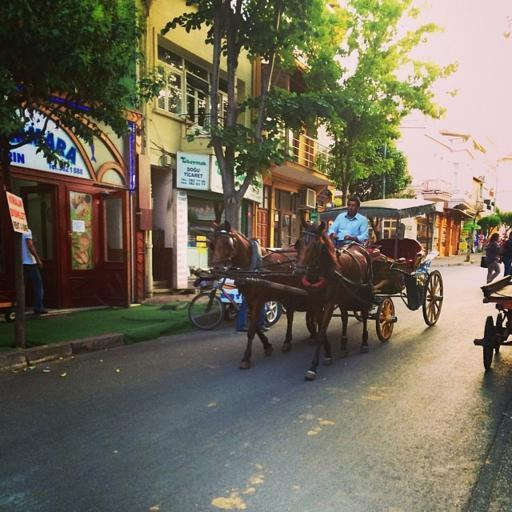horse: (290, 212, 374, 382), (206, 218, 294, 374)
